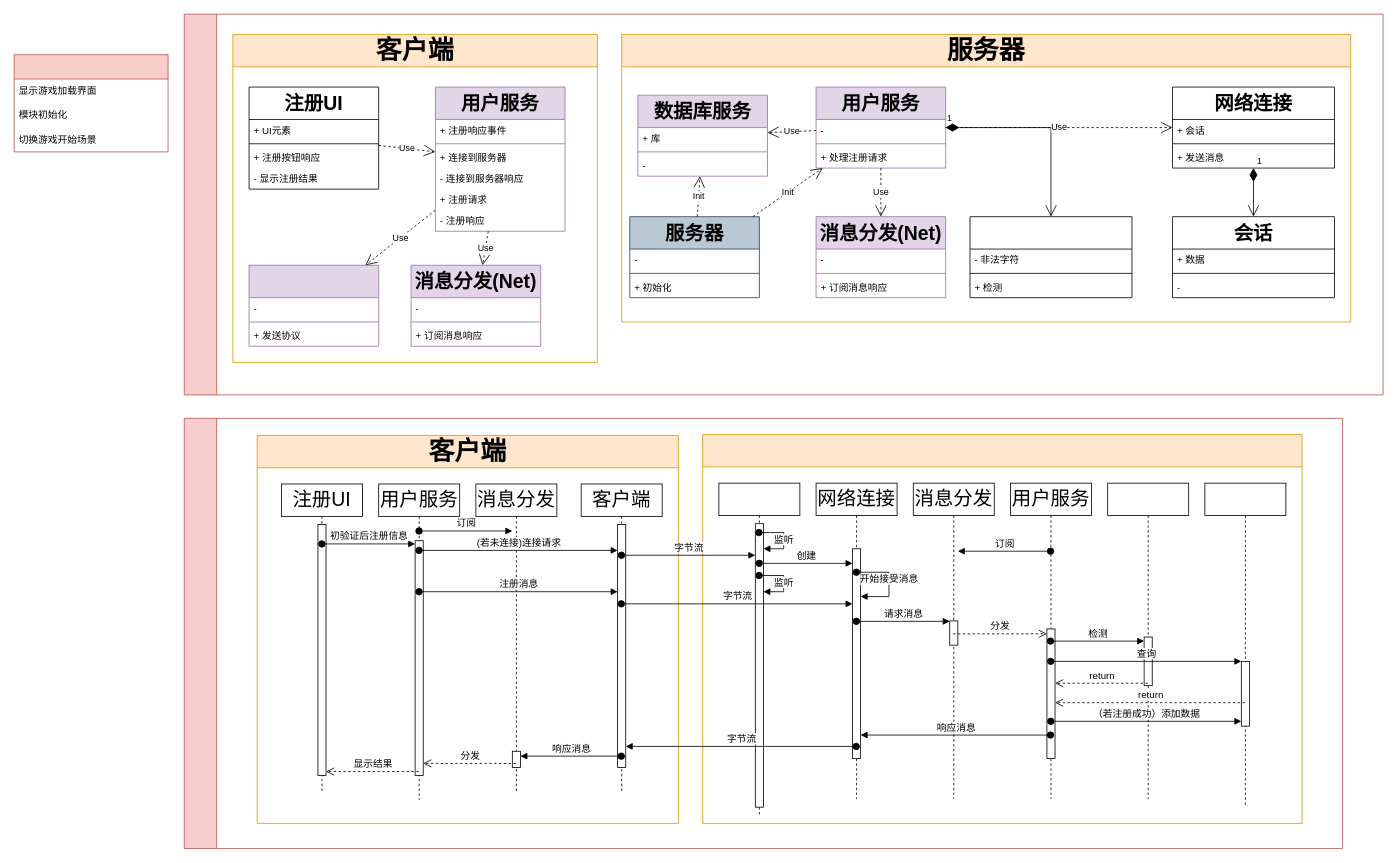
This 1397x863 diagram has some shape labels left out. The shapes that lost their labels are listed below. From the top down, each one's box as (x1, y1, x2, y2) in pixels, then its label:
(13, 54, 168, 152): 加载管理器
(183, 13, 1383, 395): 类图
(969, 216, 1132, 298): 字符串合法检测
(248, 264, 379, 346): 客户端(Net)
(718, 482, 800, 815): 网络底层
(183, 418, 1343, 848): 顺序图
(702, 434, 1302, 823): 服务端
(1107, 482, 1189, 799): 合法检测
(1204, 482, 1286, 807): 数据库
